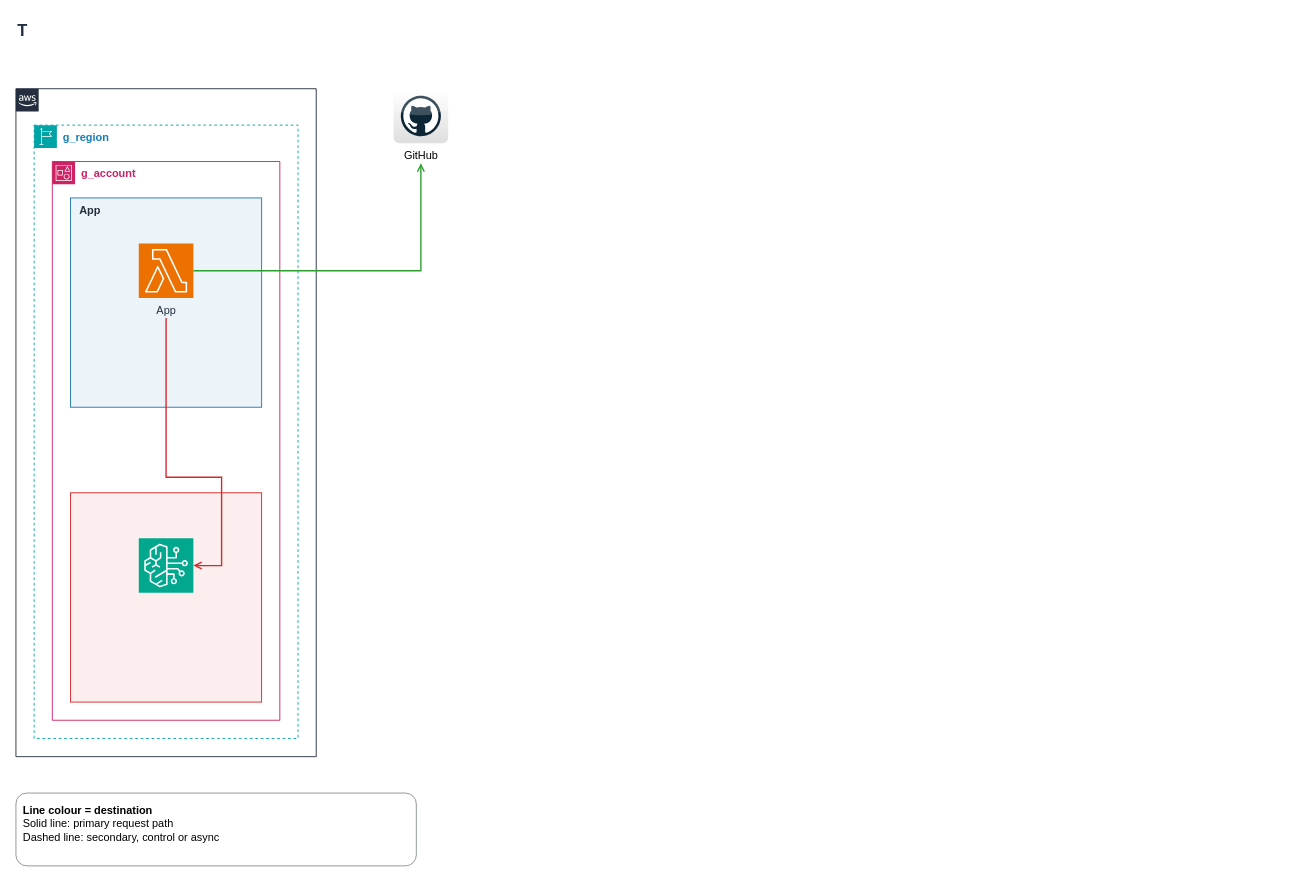
Some shapes in this 1306 by 882 pixel diagram are drawn without their labels. Each missing label, with the box of its shape:
AWS managed services: (70, 492, 262, 702)
g_cloud: (15, 88, 316, 757)
Models: (138, 537, 193, 593)
